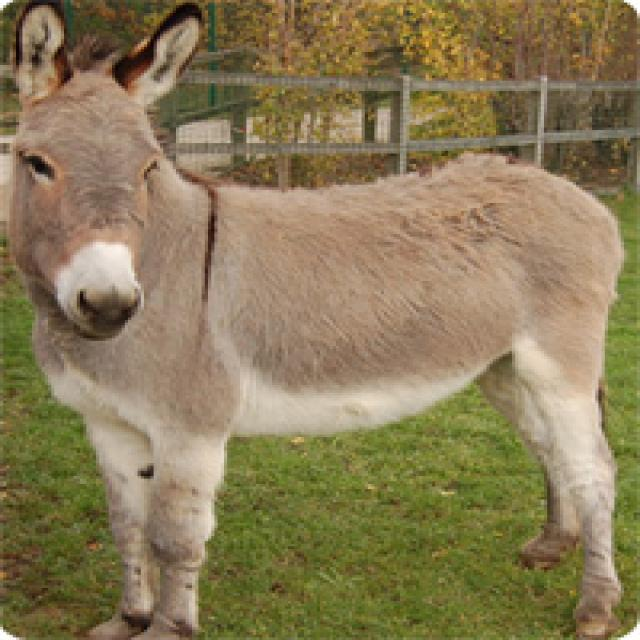Donkey: (6, 0, 622, 640)
